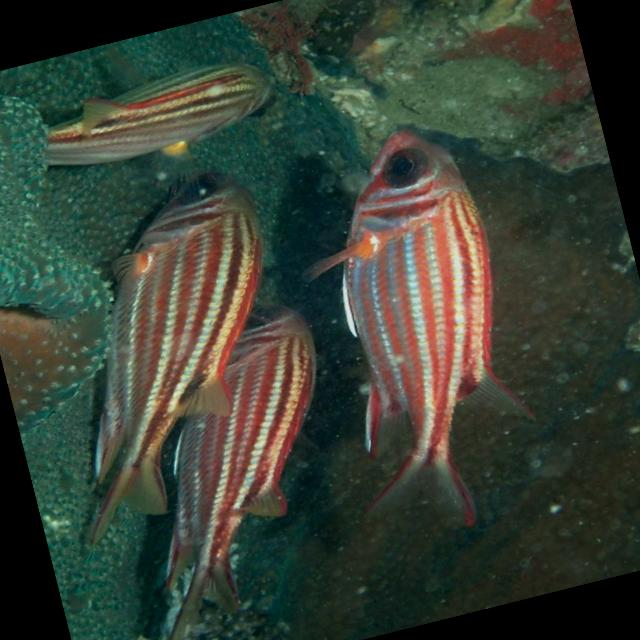Asker Baligi: (0, 147, 374, 640), (253, 100, 590, 565), (17, 36, 297, 196)
